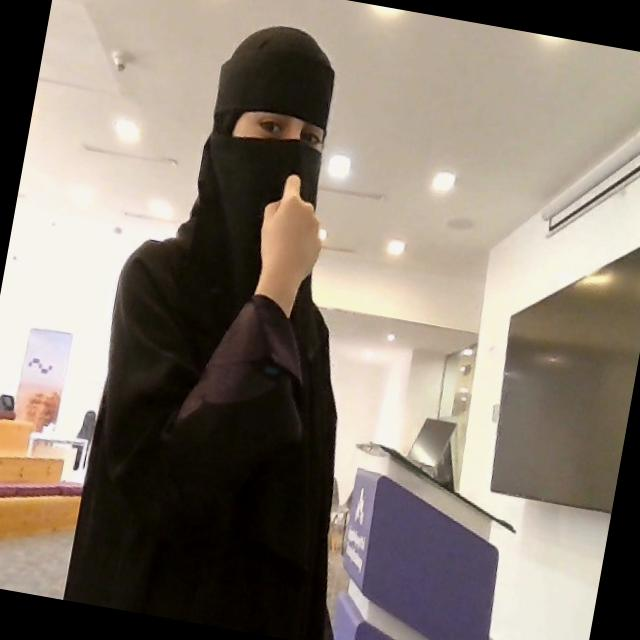medicine: (244, 168, 332, 320)
